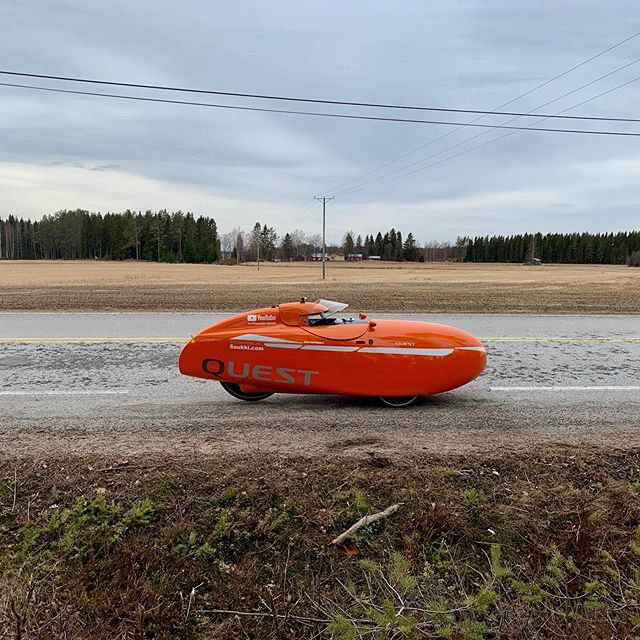bicicle: (190, 301, 478, 410)
sky: (1, 1, 640, 227)
street: (5, 310, 640, 464)
vegetation: (1, 215, 217, 266), (427, 233, 640, 264)
